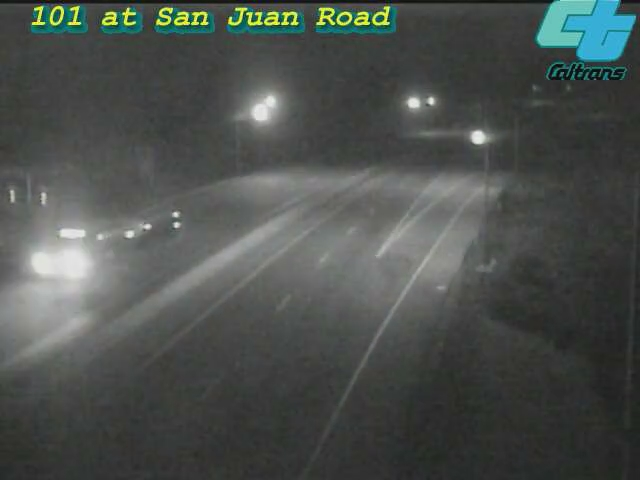vehicle: (56, 200, 136, 280), (451, 111, 501, 161)
